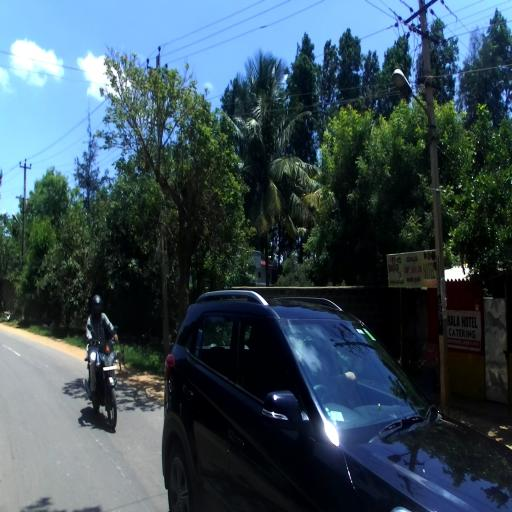street_light_0: (390, 68, 438, 144)
